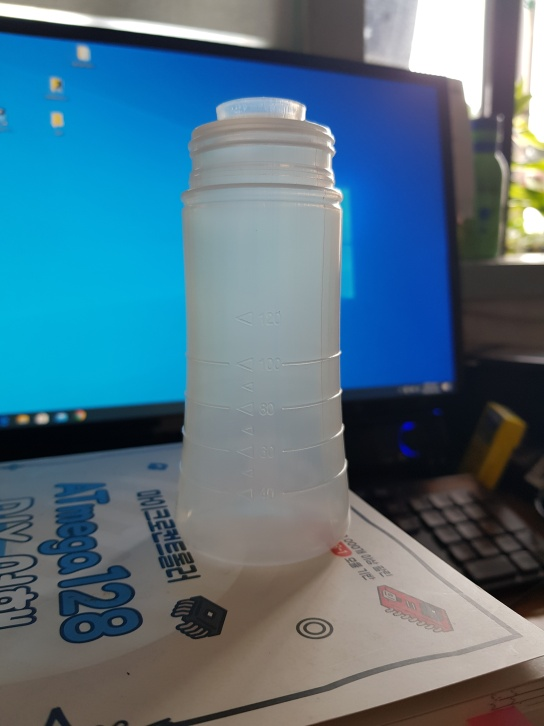Plastic: (173, 93, 353, 574)
